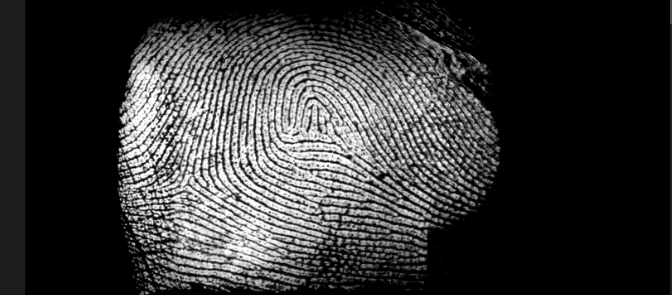deltas: (162, 153, 214, 199)
nucleo: (271, 77, 320, 136)
